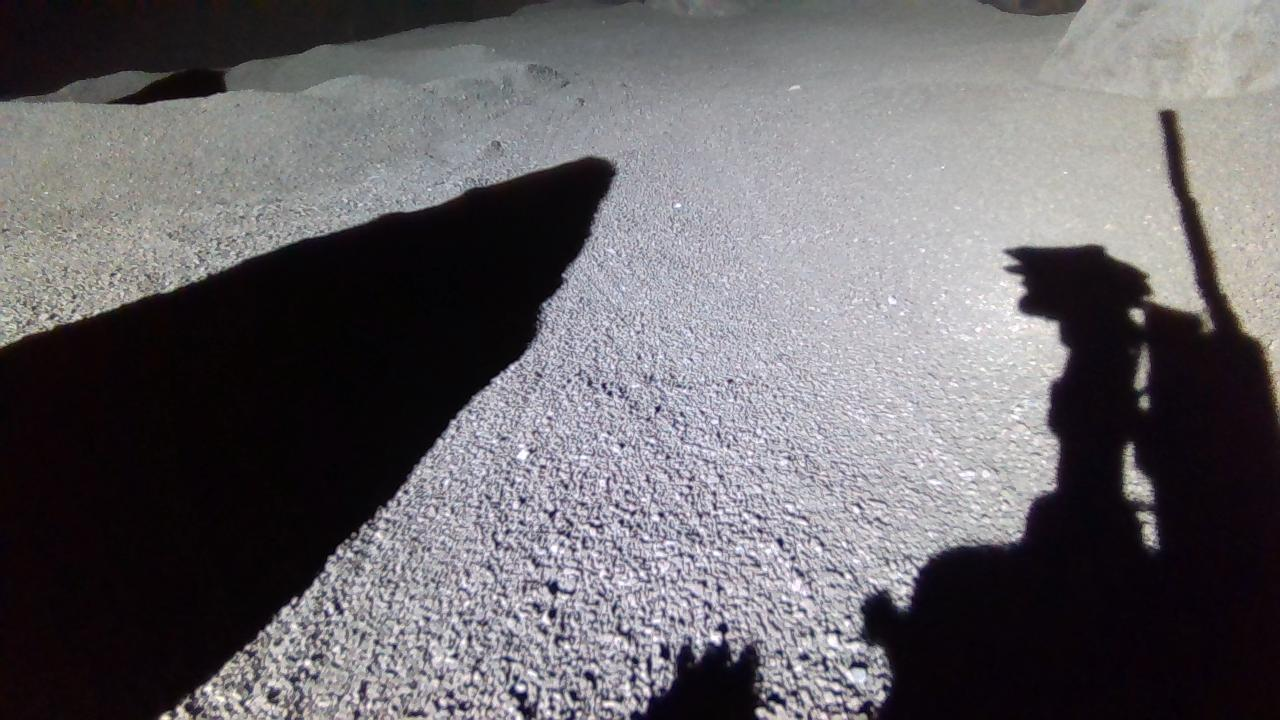rock: (1041, 0, 1280, 98), (646, 0, 749, 16)
